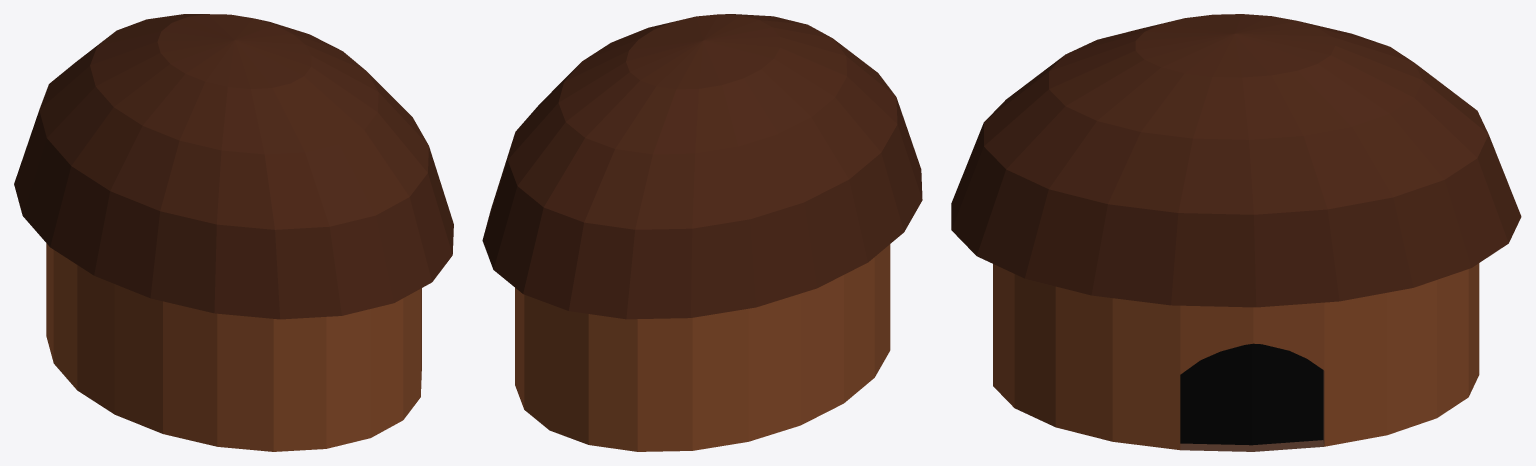
The model's file is ocablend1.fbx.
3 views of the same model, side by side, from view 1: azimuth 30°, elevation 25°; view 2: azimuth 150°, elevation 25°; view 3: azimuth 270°, elevation 25° (orthographic). The views are drawn at different scales.
Parts seen in each view (by area): view 1: Sphere; view 2: Sphere; view 3: Sphere.
Part boxes in pixels (x1,y1,x2,y2): Sphere: [14, 14, 453, 451]; Sphere: [482, 14, 922, 451]; Sphere: [951, 14, 1521, 451].
Bounding box in the file's own units: 230 × 202 × 306.
1 material, 1 textured.
